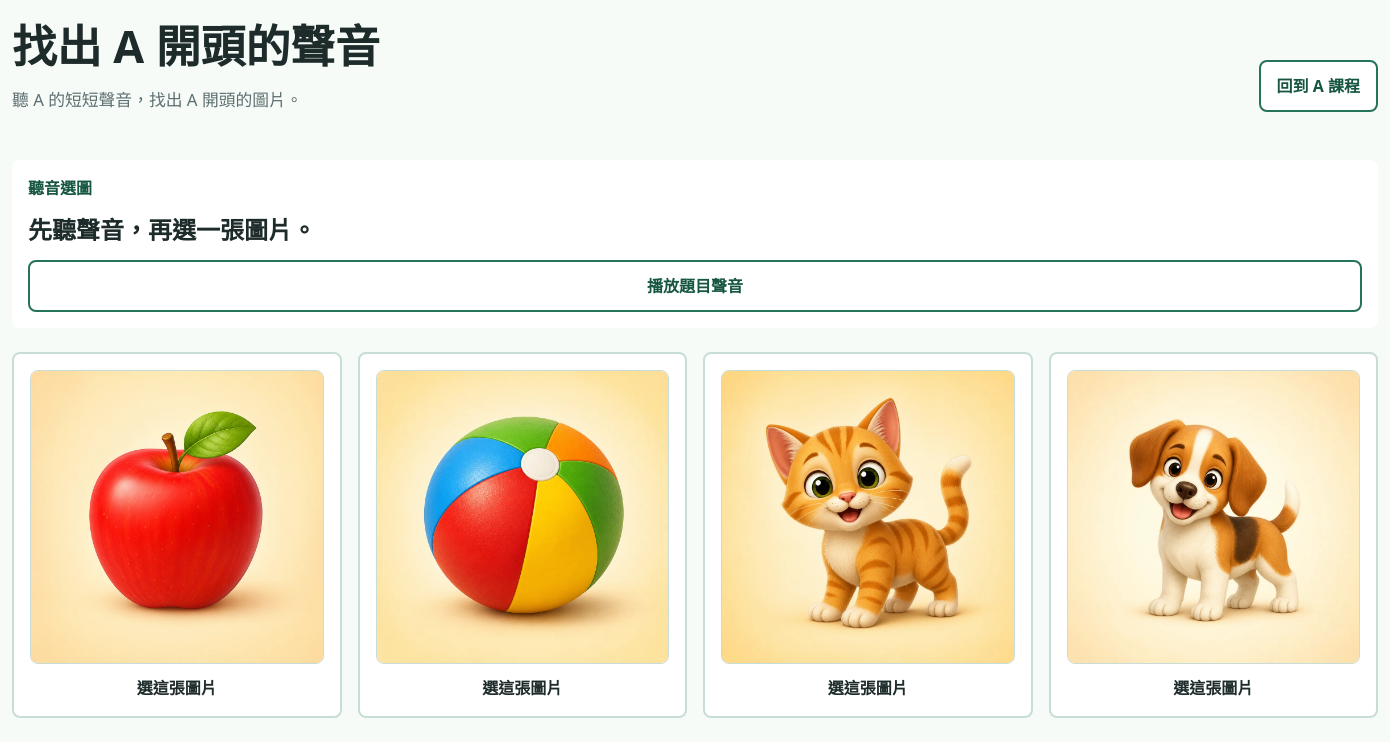
Test: GamePage › A 題目字母音可播放正式 /æ/ 音訊
Click the button "播放題目聲音" at (695, 286), box 28,260 -> 1362,312
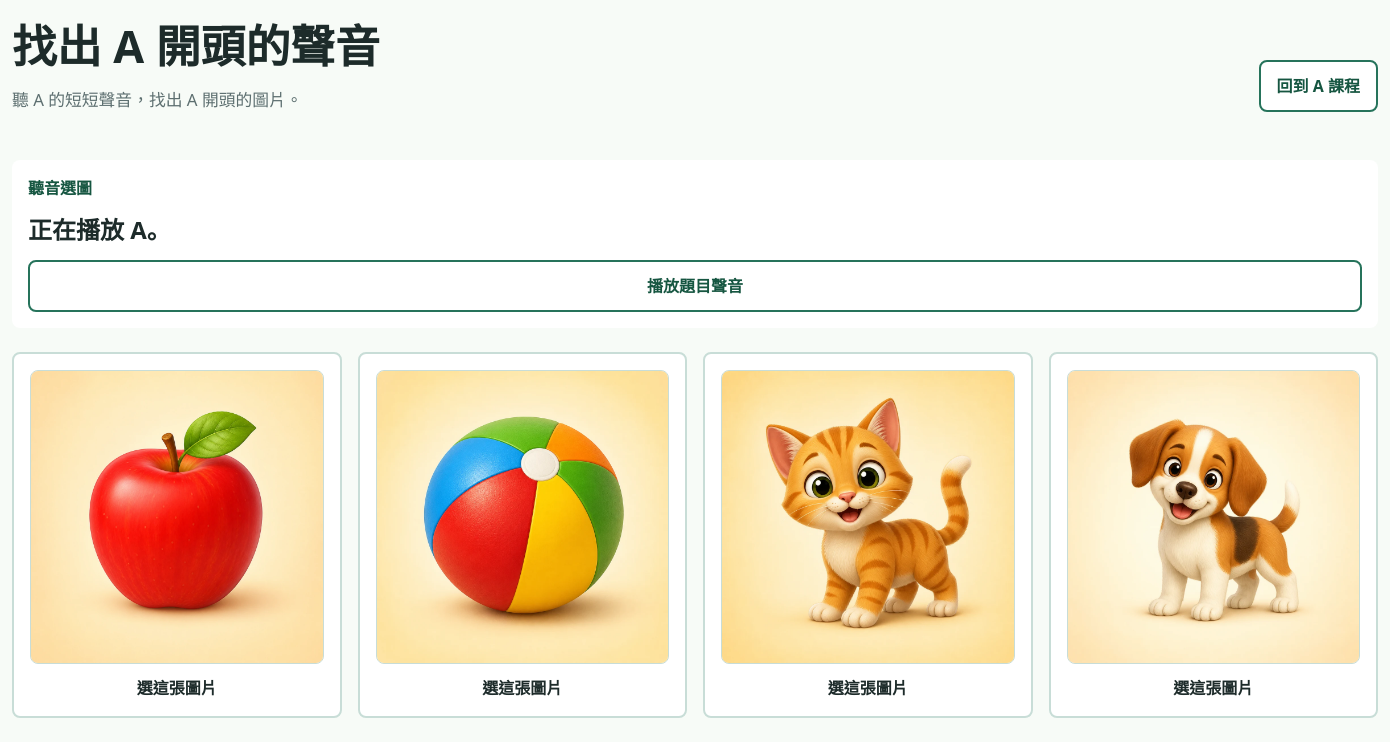
expect the heading "正在播放 A。" is shown: met, box 28,213 -> 171,246
